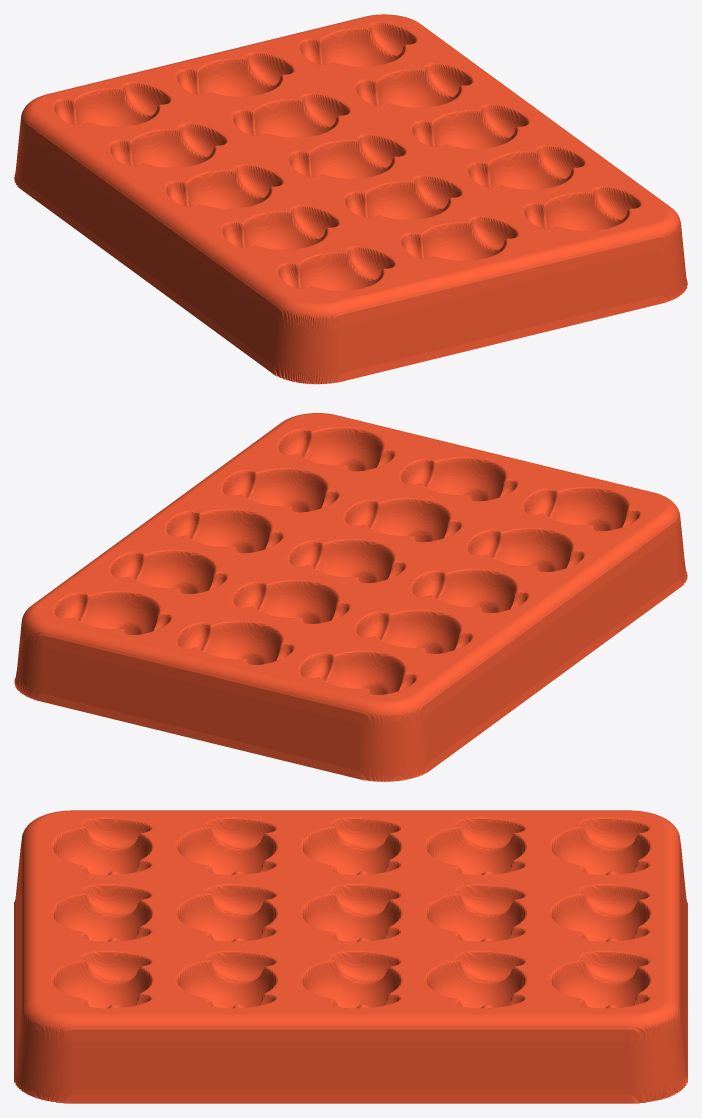
The model's file is mold.glb.
3 renders of one model, top to bottom at view 1: azimuth 30°, elevation 25°; view 2: azimuth 150°, elevation 25°; view 3: azimuth 270°, elevation 25°, orthographic. The views are drawn at different scales.
Visible parts, largest first — view 1: geometry_0; view 2: geometry_0; view 3: geometry_0.
Boxes of the visible parts, x1,y1,x2,y2 form: geometry_0: [14, 14, 687, 384]; geometry_0: [14, 413, 687, 781]; geometry_0: [14, 810, 687, 1103].
Size of the model in its own units: 0.0812 by 0.0136 by 0.1043.
